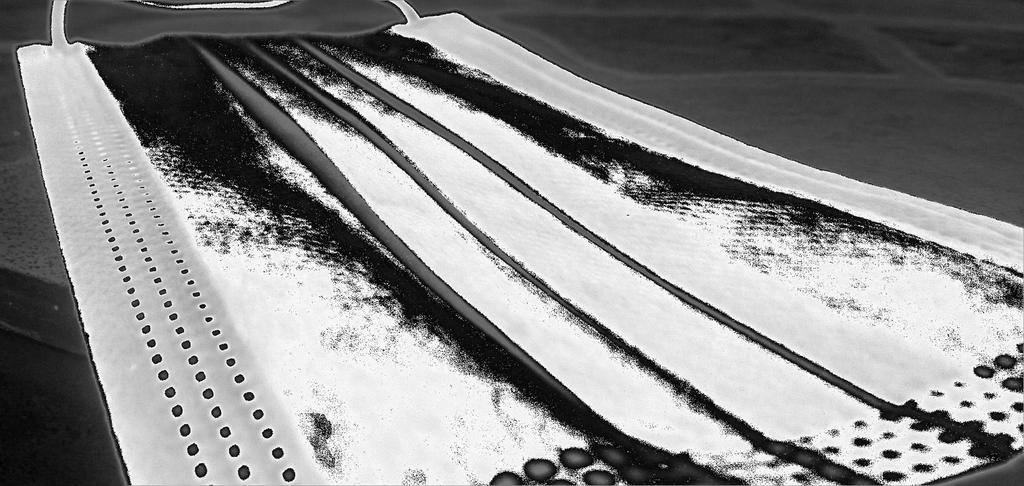High GSM: (214, 130, 1024, 480)
